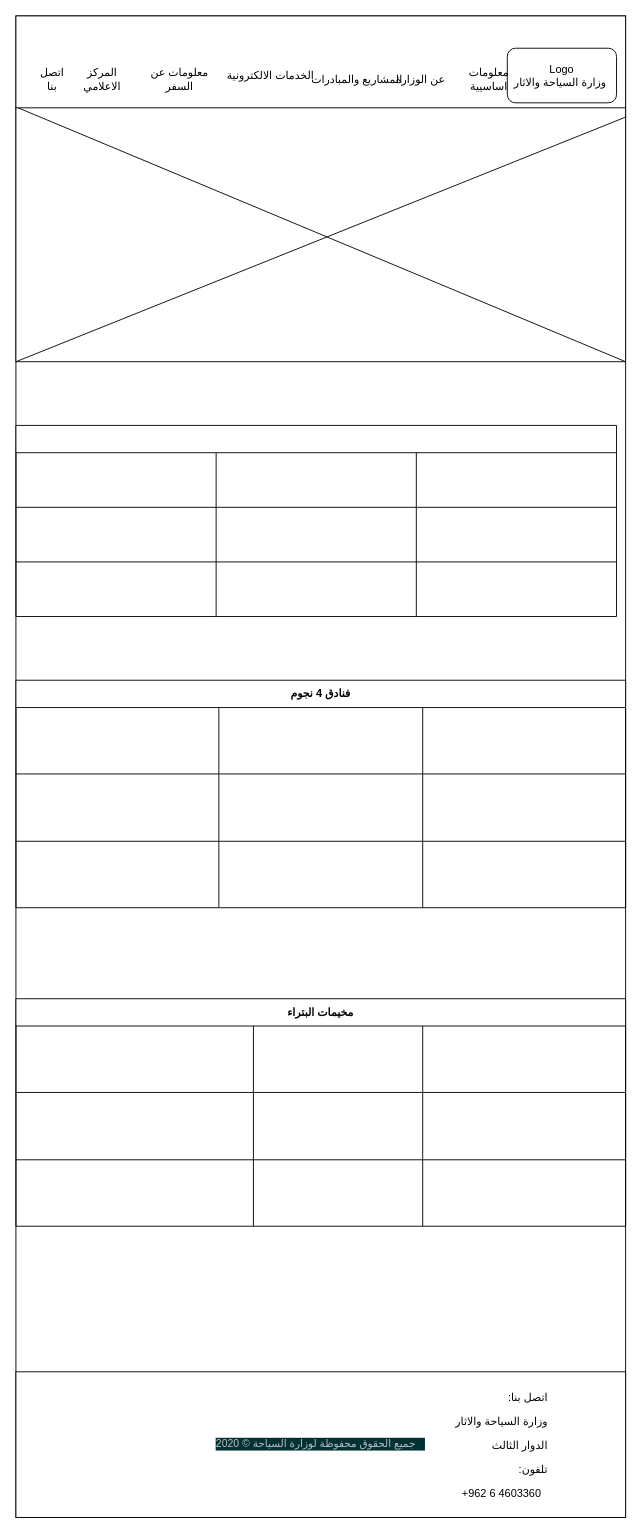
Image size: 643x1533. Some labels were removed from this diagram. The shapes that lost their labels are listed below. From the top down, each one's centre as x and y in pixels, then its label:
(x=320, y=234): أماكن الاقامة الصفحة الرئيسية/اماكن الاقامة
(x=316, y=521): فنادق 5 نجوم
